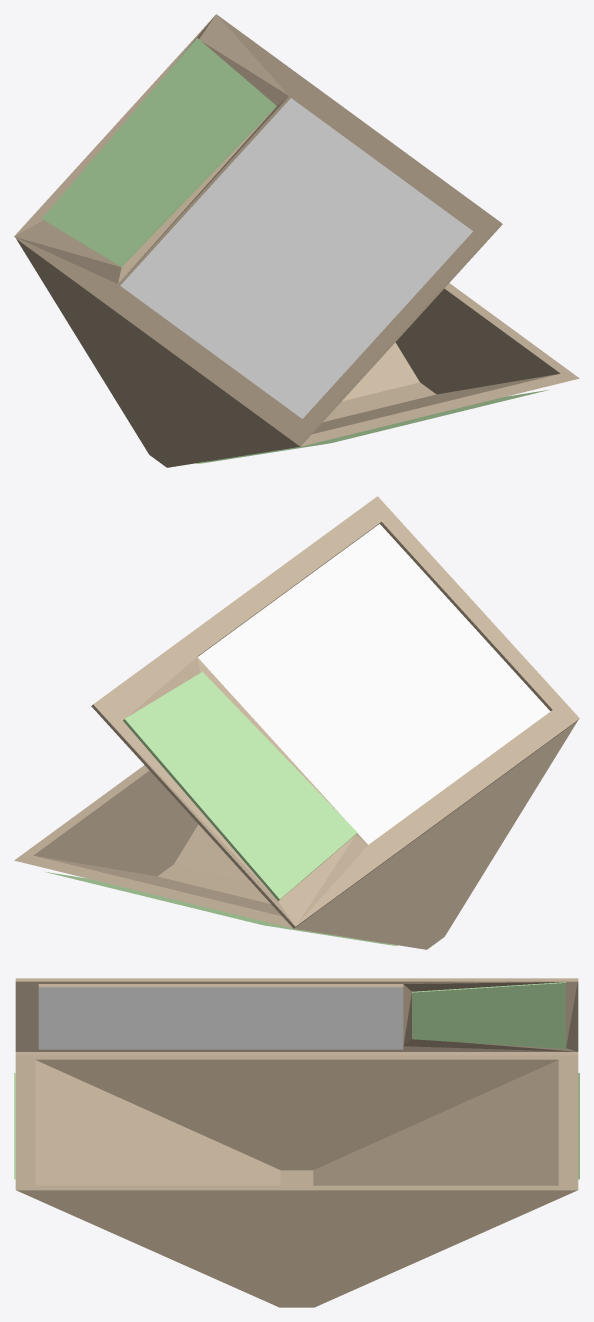
The model's file is sandwich_packaging.fbx.
3 views of the same model, one above another, from view 1: azimuth 30°, elevation 25°; view 2: azimuth 150°, elevation 25°; view 3: azimuth 270°, elevation 25° (orthographic).
Parts seen in each view (by area): view 1: polySurface4, polySurface5, polySurface2; view 2: polySurface4, polySurface5, polySurface2; view 3: polySurface4, polySurface5, polySurface2.
Part boxes in pixels (left/top/right/bottom): polySurface4: left=14, top=14, right=579, bottom=467; polySurface5: left=42, top=38, right=276, bottom=266; polySurface2: left=196, top=389, right=549, bottom=464; polySurface4: left=14, top=496, right=579, bottom=949; polySurface5: left=123, top=672, right=357, bottom=900; polySurface2: left=44, top=871, right=397, bottom=946; polySurface4: left=15, top=978, right=578, bottom=1307; polySurface5: left=412, top=982, right=565, bottom=1048; polySurface2: left=14, top=1073, right=579, bottom=1179.
Bounding box in the file's own units: 2.8 × 2.83 × 4.93.
